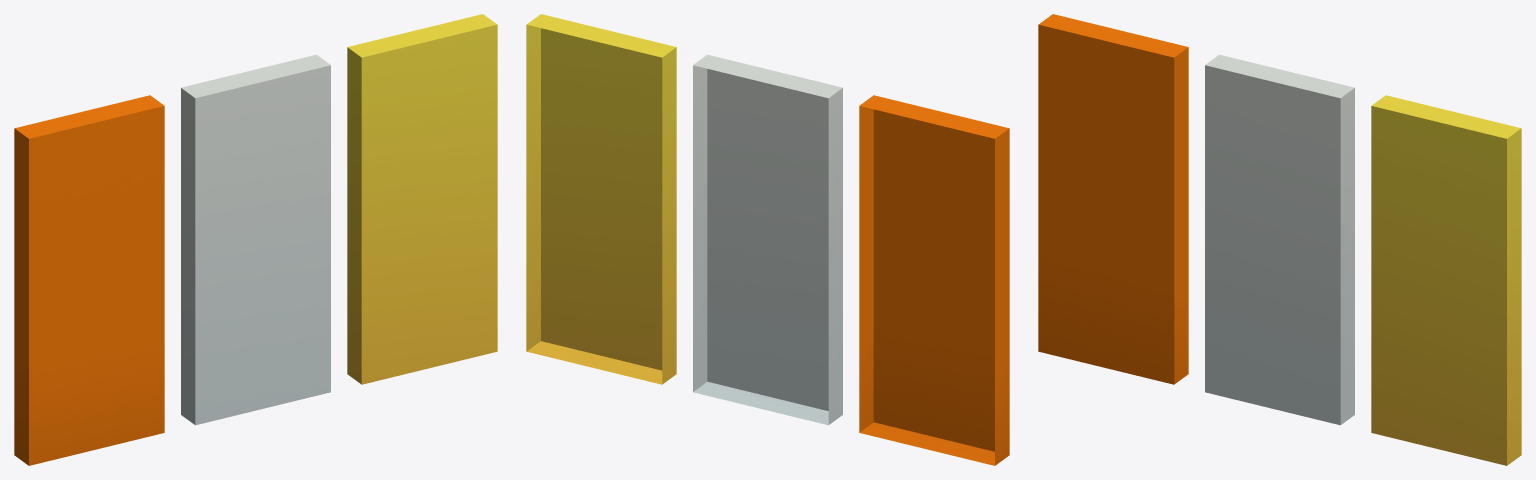
Rendered from WallPainting.fbx.
3 renders of one model, left to right at view 1: azimuth 30°, elevation 25°; view 2: azimuth 150°, elevation 25°; view 3: azimuth 330°, elevation 25°, orthographic.
Parts seen in each view (by area): view 1: WallPainting; view 2: WallPainting; view 3: WallPainting.
Part boxes in pixels (x1=…): WallPainting: x1=14, y1=14, x2=497, y2=465; WallPainting: x1=526, y1=14, x2=1009, y2=465; WallPainting: x1=1038, y1=14, x2=1521, y2=465.
Size of the model in its own units: 141 by 93.9 by 7.54.
